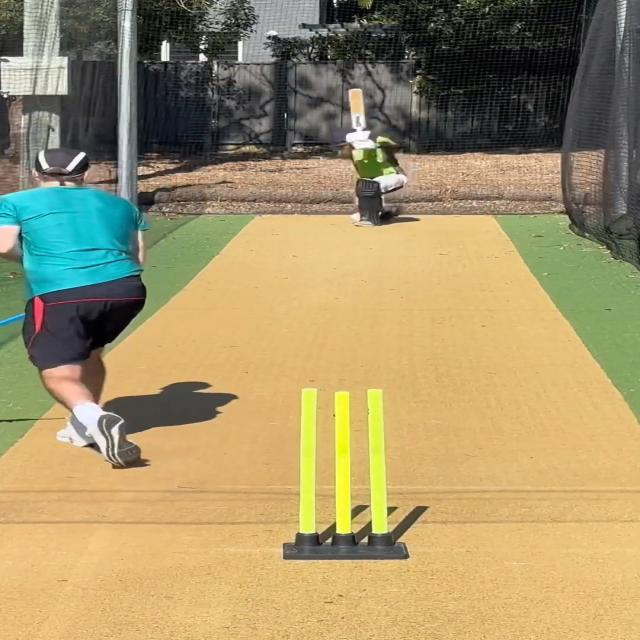stump: (282, 386, 409, 561)
